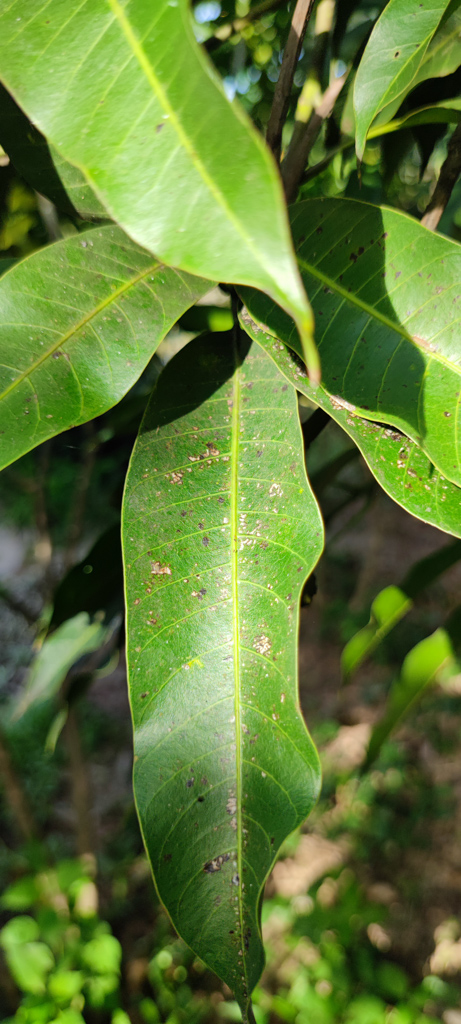Rust: (127, 324, 316, 1018), (250, 294, 457, 528)
